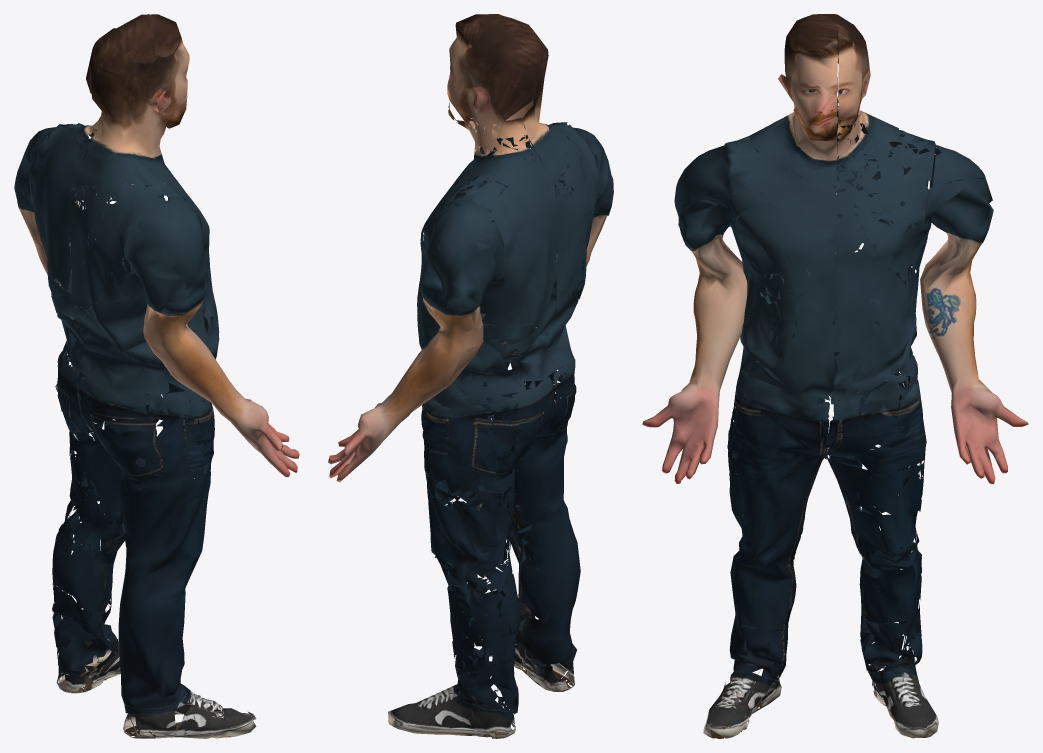
The model's file is nuri.glb.
The picture shows the model from 3 angles, left to right: view 1: azimuth 30°, elevation 25°; view 2: azimuth 150°, elevation 25°; view 3: azimuth 270°, elevation 25°; orthographic projection.
Visible parts, largest first — view 1: tripo_node_d0bcade7; view 2: tripo_node_d0bcade7; view 3: tripo_node_d0bcade7.
Part boxes in pixels (<box>): tripo_node_d0bcade7: <box>14,14,299,738</box>; tripo_node_d0bcade7: <box>328,14,613,738</box>; tripo_node_d0bcade7: <box>642,14,1028,738</box>.
Size of the model in its own units: 0.2507 by 1 by 0.5047.
1 material, 1 textured.
